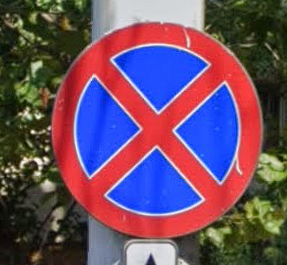oprirea_interzisa: (47, 15, 270, 250)
